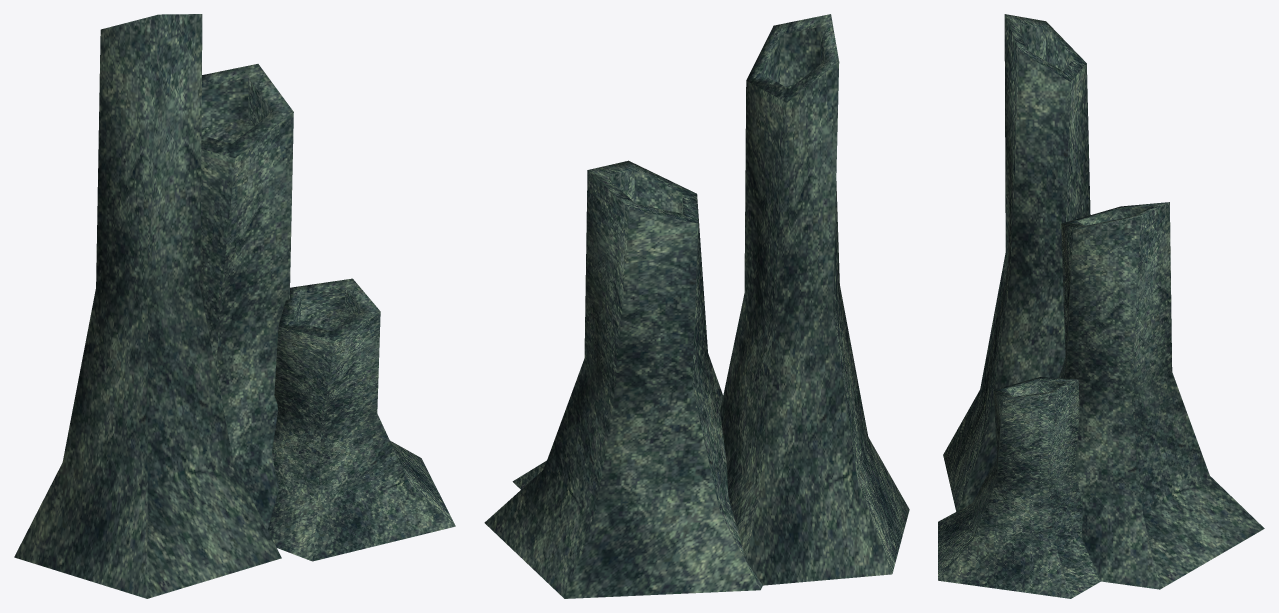
Rendered from ThermalVent.glb.
3 views of the same model, side by side, from view 1: azimuth 30°, elevation 25°; view 2: azimuth 150°, elevation 25°; view 3: azimuth 270°, elevation 25° (orthographic). The views are drawn at different scales.
Parts seen in each view (by area): view 1: Cylinder; view 2: Cylinder; view 3: Cylinder.
Part boxes in pixels (x1,y1,x2,y2): Cylinder: [14, 14, 455, 598]; Cylinder: [484, 14, 909, 598]; Cylinder: [938, 14, 1264, 598].
Bounding box in the file's own units: 2.62 × 3.35 × 2.15.
Materials: 1 (1 with a texture image).
